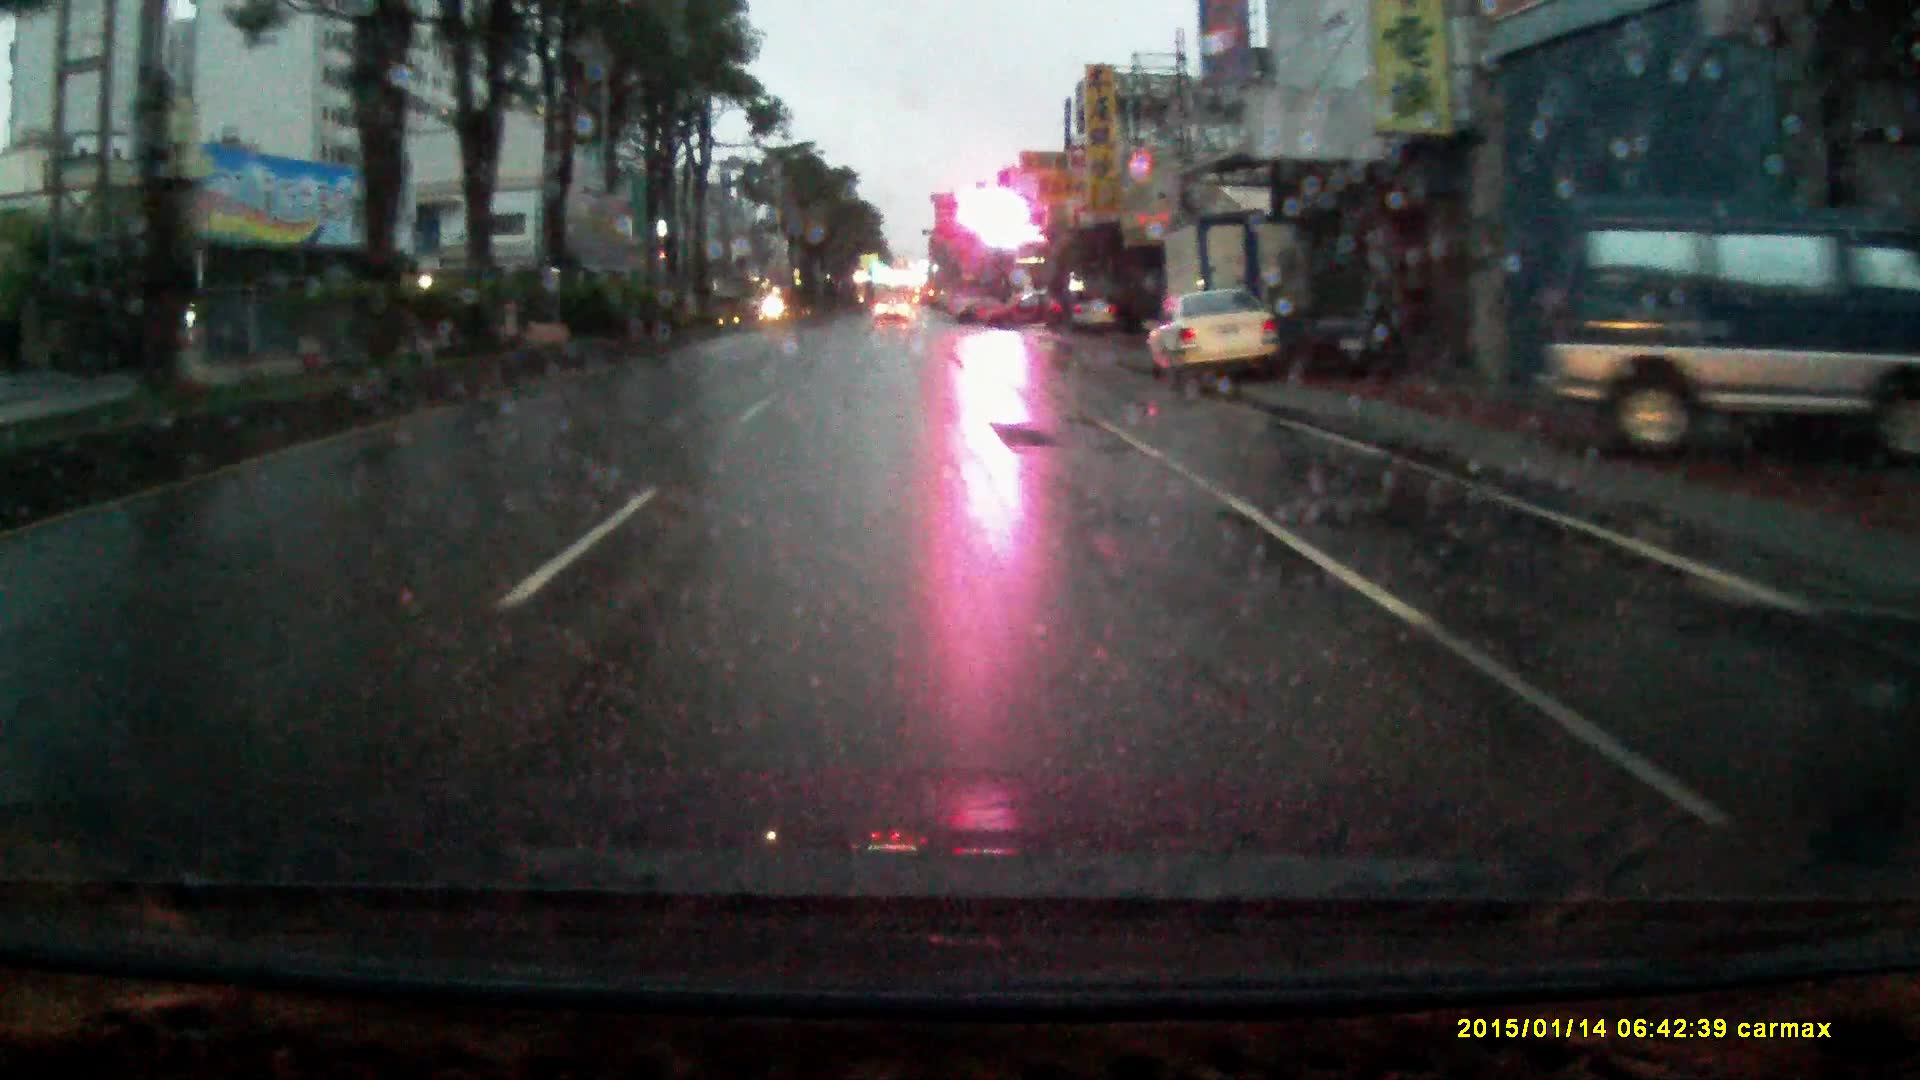vehicle: (1542, 193, 1888, 467), (1150, 215, 1313, 386), (1142, 284, 1288, 386), (982, 287, 1062, 331), (1063, 289, 1121, 335), (876, 298, 910, 328)
